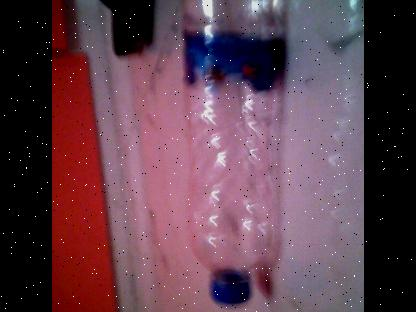Plastic Bottle: (180, 0, 292, 308)
